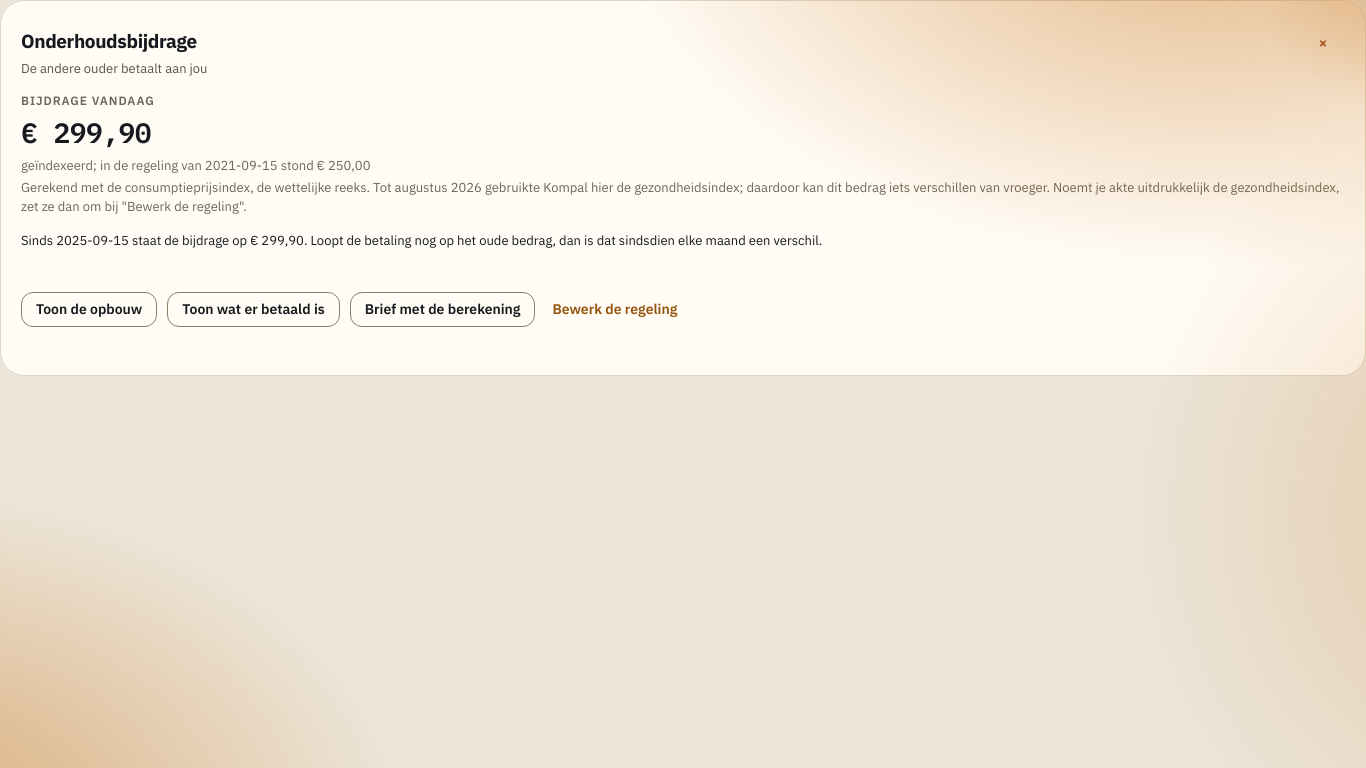
Scenario: OnderhoudsbijdrageSectie — wat er betaald is › toont verschuldigd, betaald en het verschil
What coordinates should you click on to do the following:
click the button "Toon wat er betaald is"
I would click on:
 (254, 309)
Its box is [167,292,340,327].
(page scrolled)
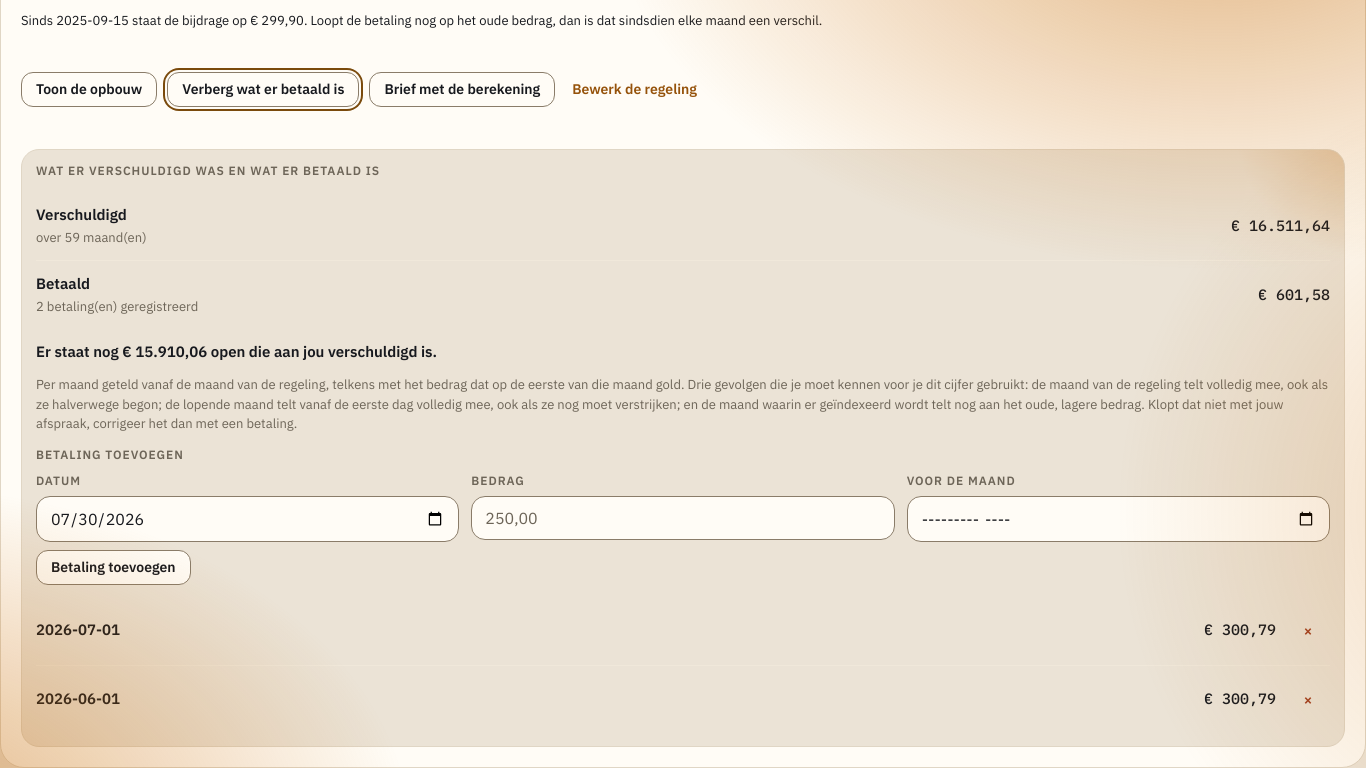
Check: the text "Verschuldigd" is shown, box [36,205,127,224]
Check: the text "Betaald" is shown, box [36,274,90,293]
Check: the text "open" is shown, box [36,342,437,361]
